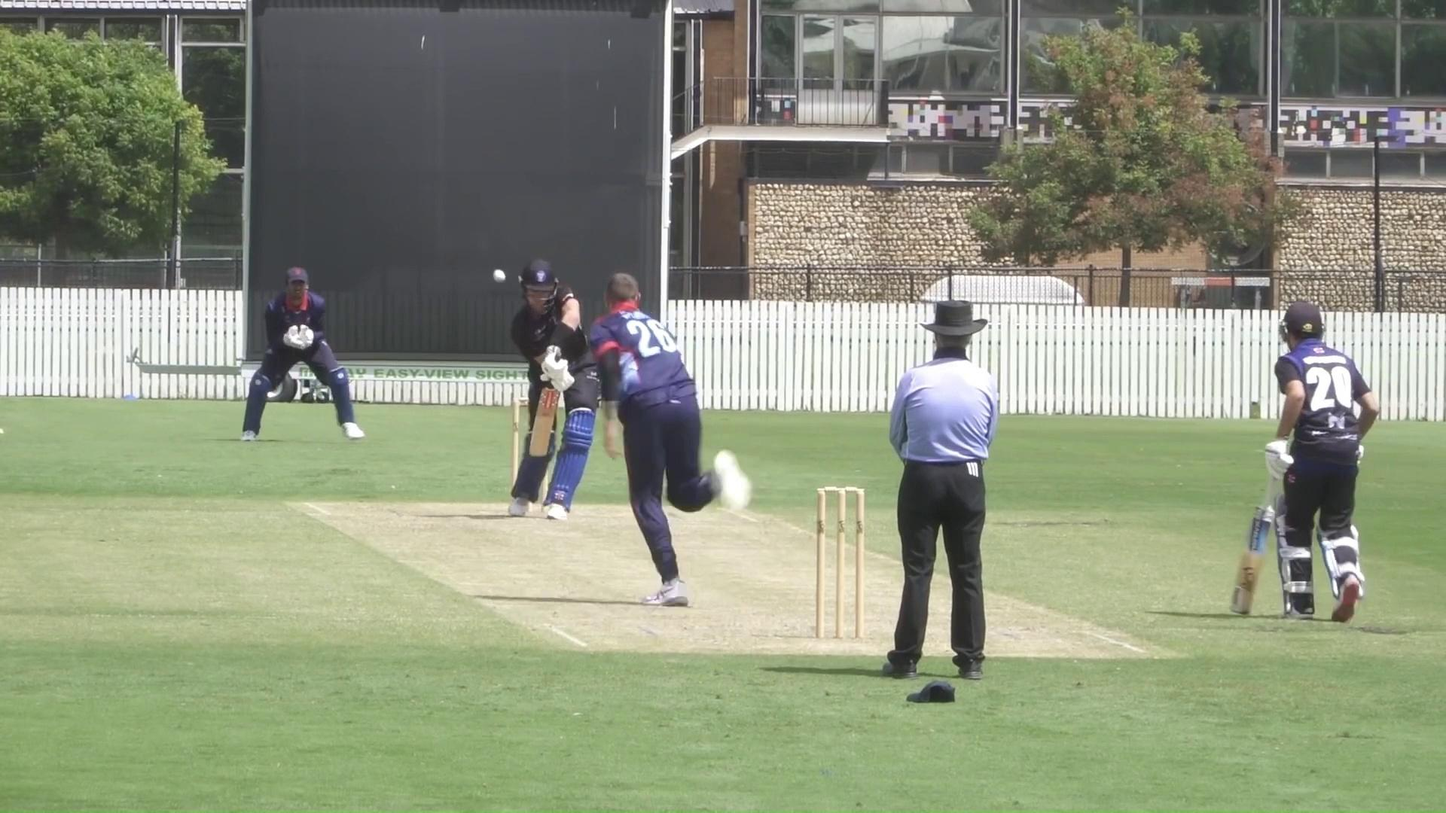ball: (490, 265, 509, 288)
